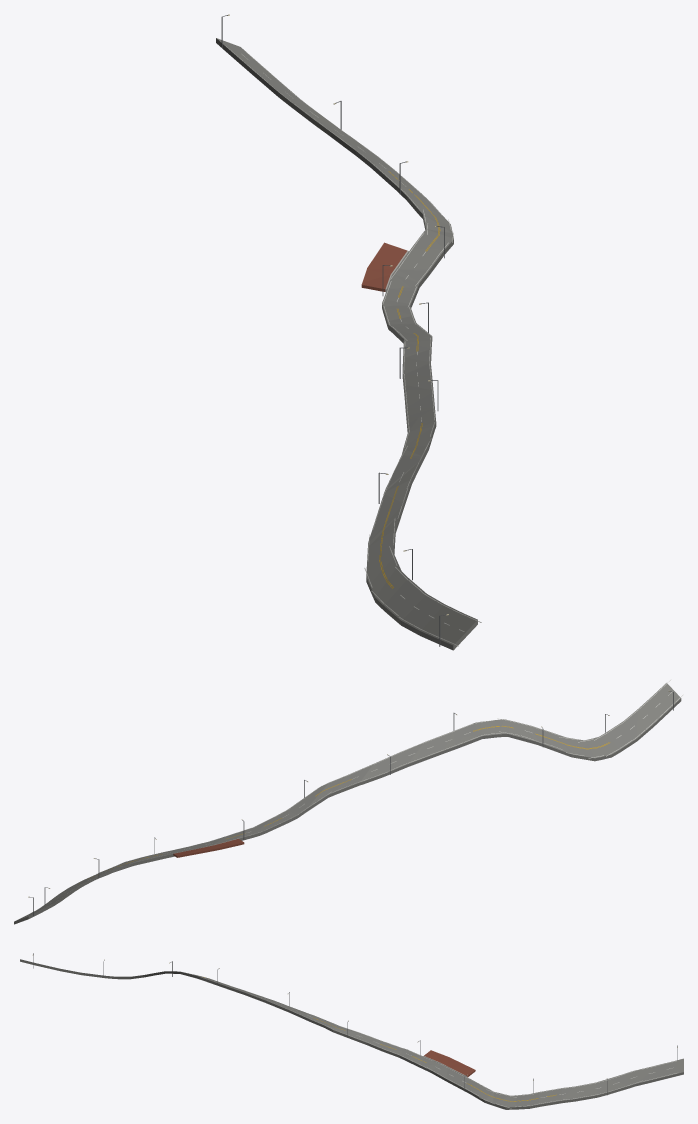
3 renders of one model, top to bottom at view 1: azimuth 30°, elevation 25°; view 2: azimuth 150°, elevation 25°; view 3: azimuth 270°, elevation 25°, orthographic. The views are drawn at different scales.
Size of the model in its own units: 124 by 32.33 by 294.
